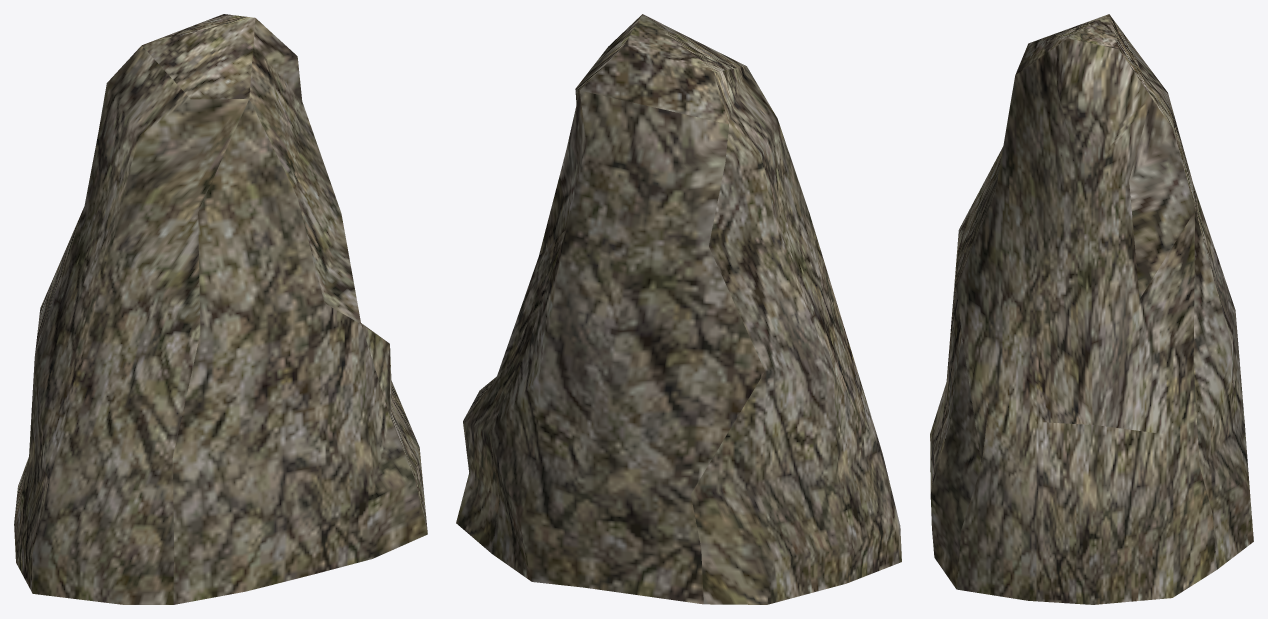
Rendered from general_obj_bigstone09.glb.
The picture shows the model from 3 angles, left to right: view 1: azimuth 30°, elevation 25°; view 2: azimuth 150°, elevation 25°; view 3: azimuth 270°, elevation 25°; orthographic projection.
Parts seen in each view (by area): view 1: Sphere01fs01; view 2: Sphere01fs01; view 3: Sphere01fs01.
Boxes of the visible parts, left/top/right/bottom form: Sphere01fs01: left=14, top=14, right=427, bottom=604; Sphere01fs01: left=456, top=14, right=901, bottom=604; Sphere01fs01: left=930, top=14, right=1253, bottom=604.
Bounding box in the file's own units: 15.79 × 19.25 × 11.38.
1 material, 1 textured.
